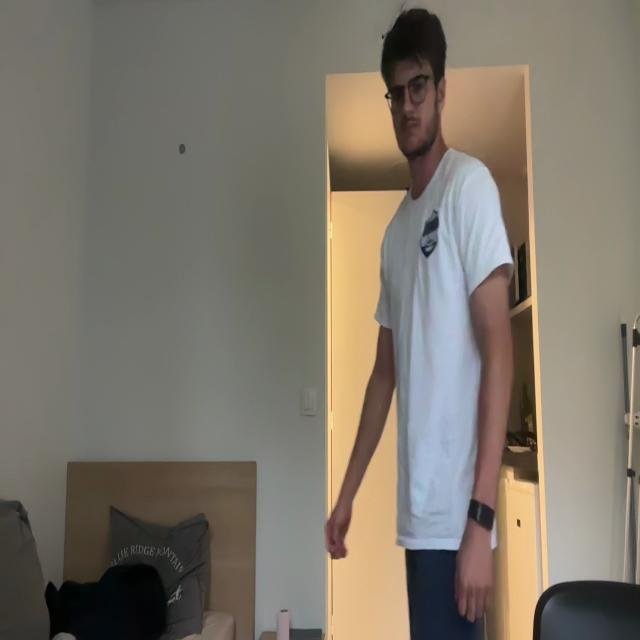elbow: (480, 333, 516, 386), (370, 356, 396, 403)
hand: (452, 520, 496, 624), (324, 498, 350, 557)
shoulder: (459, 163, 496, 231), (380, 228, 393, 301)
